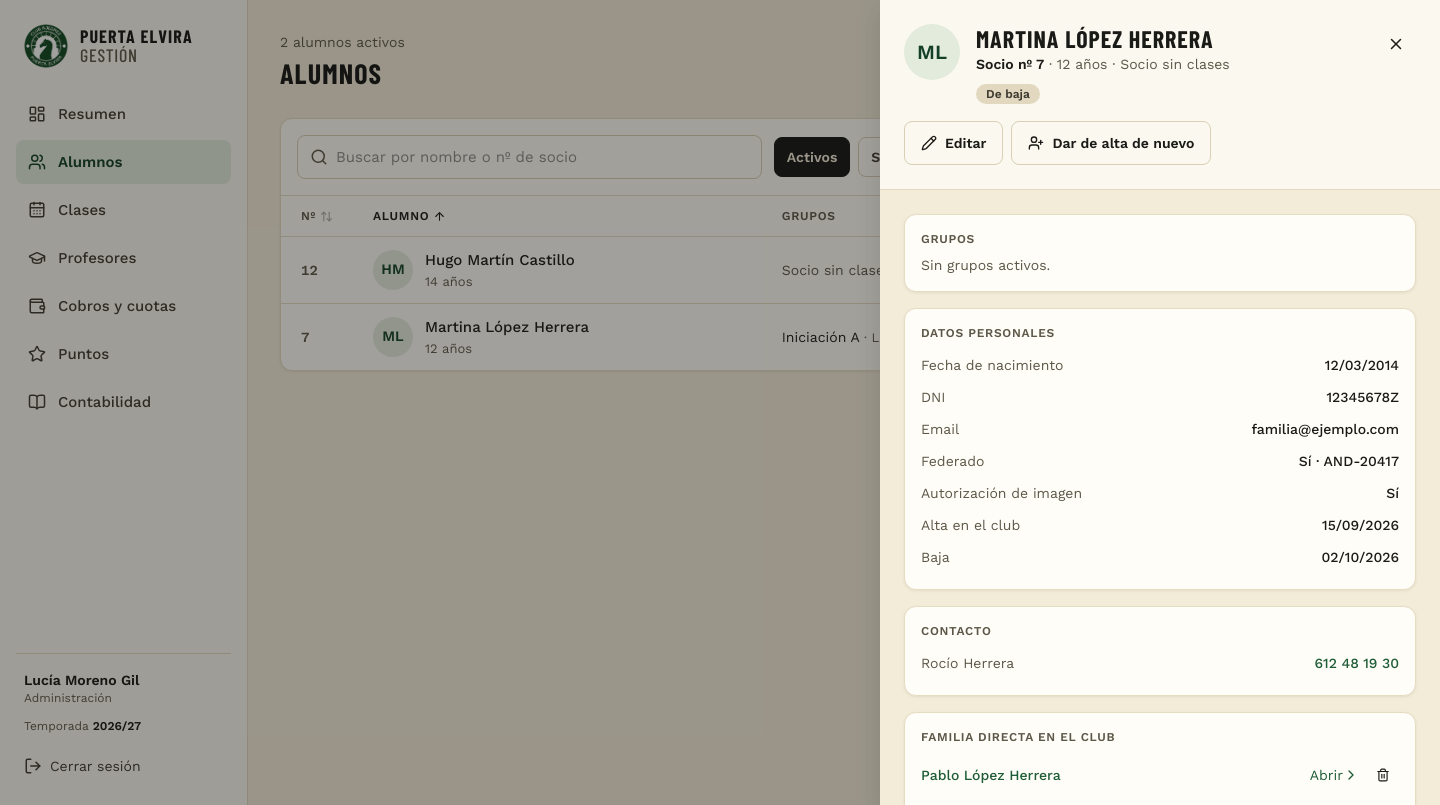
Test case: Alumnos › should join a withdrawn student again in a group and show their periods
Expected: the button "Dar de baja" is not shown
Click the button "Dar de alta de nuevo".
click(1112, 142)  # box [1012,120,1212,164]
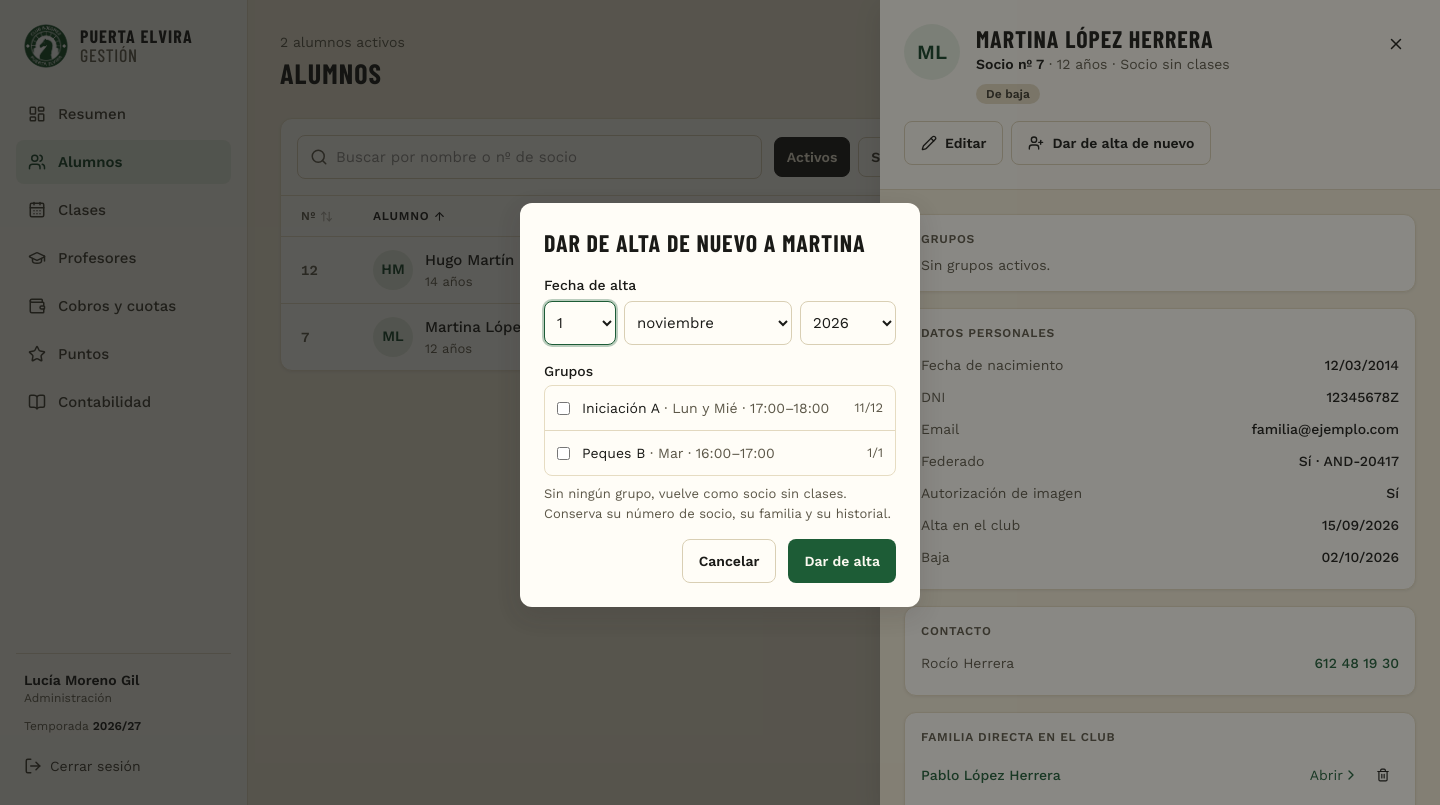
Click the checkbox labelled "Peques B · Mar · 16:00–17:00 1/1".
click(564, 453)  # box [557,446,570,460]
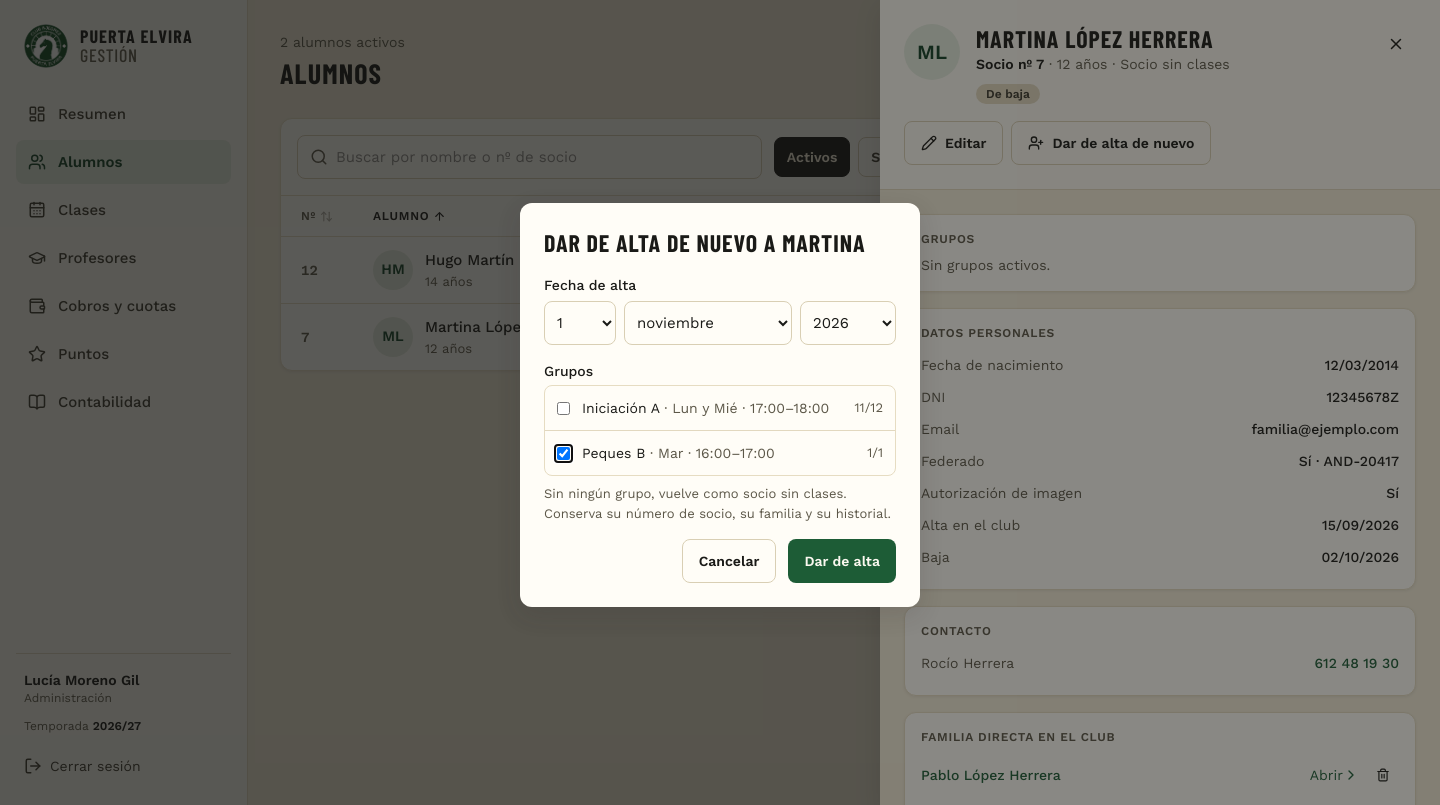
Click the button "Dar de alta".
click(842, 561)  # box [788,539,896,583]
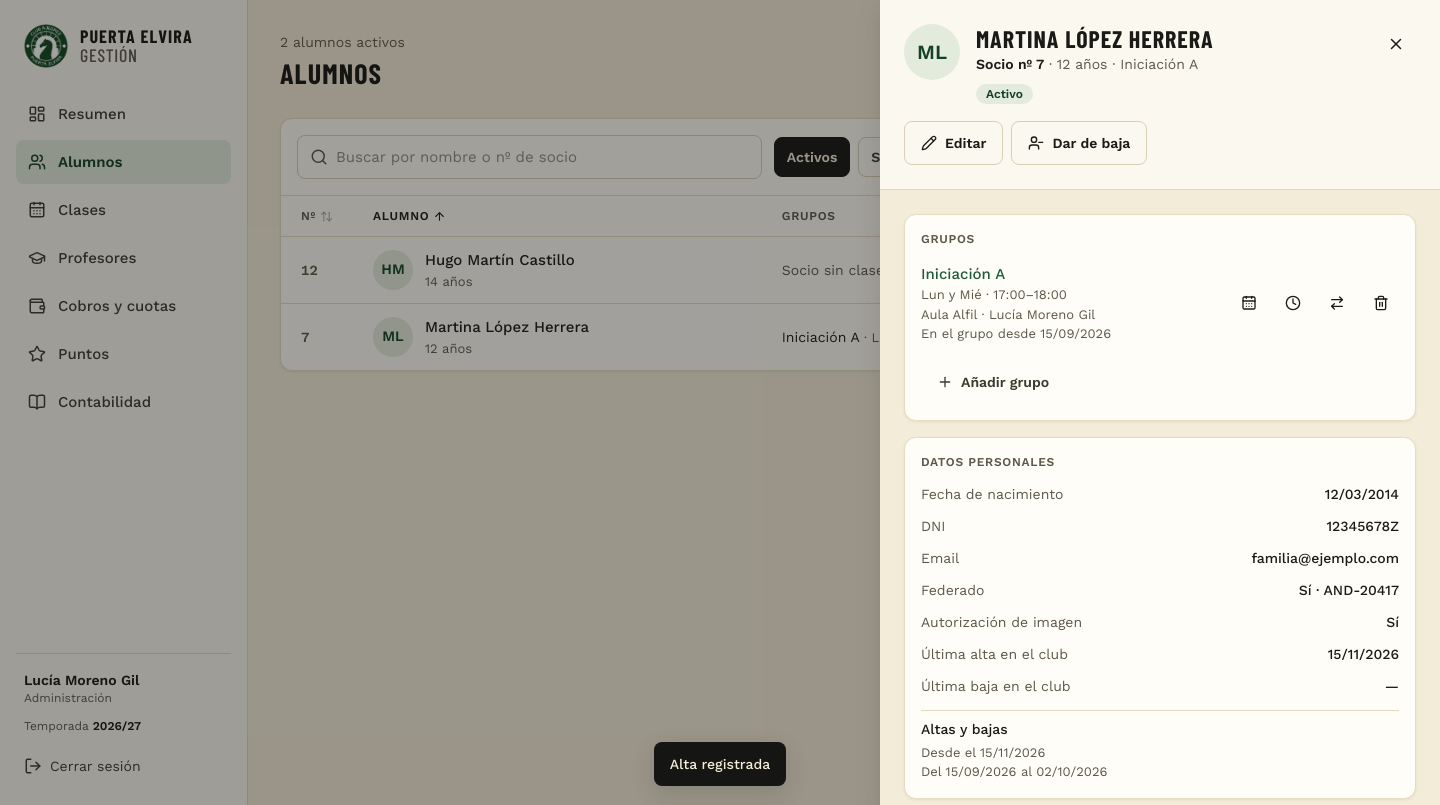
Expected: the text "Última alta en el club" is shown, [921,644,1068,664]
Expected: the text "Última baja en el club" is shown, [921,676,1071,696]
Expected: the list named "Altas y bajas" reads "Desde el 15/11/2026 Del 15/09/2026 al 02/10/2026", [921,744,1107,779]
